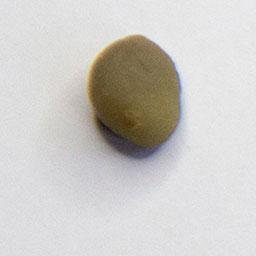peaberry: (85, 30, 185, 150)
